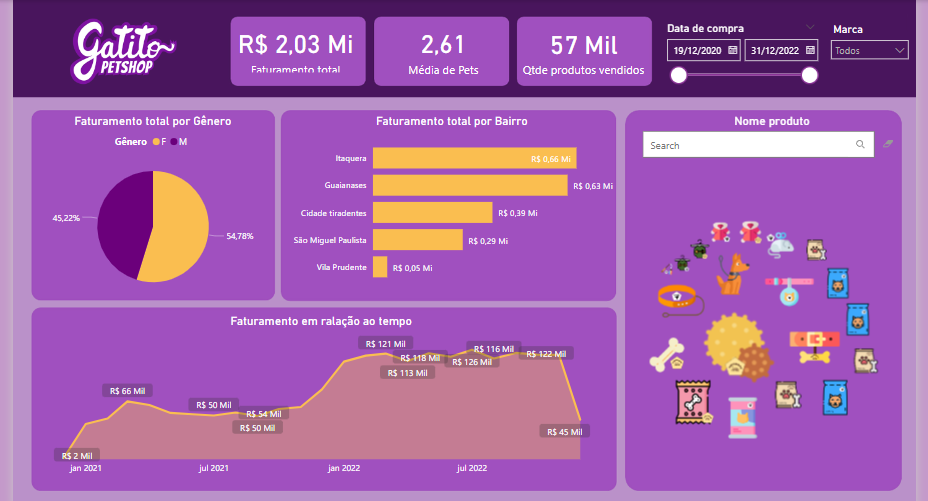

This screenshot's page, from the dashboard's own definition file:
{"tool":"powerbi","page":{"name":"Página 1","canvas":[1280,720],"ordinal":0},"visuals":[{"type":"card","fields":{"Values":["Vendas.Faturamento total"]},"box":[299.1,32.6,202.7,75.1],"z":0},{"type":"card","fields":{"Values":["Avg(Clientes.Pets)"]},"box":[511.7,25.5,197,89.3],"z":1000},{"type":"card","fields":{"Values":["Sum(Vendas.Quantidade)"]},"box":[703,11.3,211.2,117.6],"z":2000},{"type":"pieChart","fields":{"Category":["Clientes.Gênero"],"Y":["Vendas.Faturamento total"]},"box":[34.3,161.4,328.6,271.4],"z":3000},{"type":"clusteredBarChart","fields":{"Category":["Clientes.Bairro"],"Y":["Vendas.Faturamento total"]},"box":[384.3,161.4,475.7,252.9],"z":4000},{"type":"areaChart","title":"Faturamento em ralação ao tempo","fields":{"Category":["Vendas.Data de compra.Variation.Hierarquia de datas.Ano","Vendas.Data de compra.Variation.Hierarquia de datas.Trimestre","Vendas.Data de compra.Variation.Hierarquia de datas.Mês","Vendas.Data de compra.Variation.Hierarquia de datas.Dia"],"Y":["Vendas.Faturamento total"]},"box":[44.3,445.7,785.7,235.7],"z":5000},{"type":"ImageGrid_FC5183B9_926C_45E0_B5F7_0CE9EAF1DA9B","fields":{"ImageURL":["Produtos.Url img"]},"box":[875.7,241.4,377.1,452.9],"z":5001},{"type":"textFilter25A4896A83E0487089E2B90C9AE57C8A","fields":{"field":["Produtos.Nome produto"]},"box":[887.1,161.4,377.1,80],"z":5002},{"type":"slicer","fields":{"Values":["Produtos.Marca"]},"box":[1149.4,26.9,130.4,130.4],"z":5003},{"type":"slicer","fields":{"Values":["Vendas.Data de compra"]},"box":[914.2,25.5,235.3,164.4],"z":5004}]}

Visuals, with their boxes on the page's 1280x720 design canvas (x1, y1, x2, y2). These are canvas units, not pixel positions in the 928x501 screenshot, which may show the page scaled, cropped or inside an application window:
card - Vendas.Faturamento total: box(299, 33, 502, 108)
card - Avg(Clientes.Pets): box(512, 26, 709, 115)
card - Sum(Vendas.Quantidade): box(703, 11, 914, 129)
pieChart - Clientes.Gênero x Vendas.Faturamento total: box(34, 161, 363, 433)
clusteredBarChart - Clientes.Bairro x Vendas.Faturamento total: box(384, 161, 860, 414)
"Faturamento em ralação ao tempo" areaChart: box(44, 446, 830, 681)
ImageGrid_FC5183B9_926C_45E0_B5F7_0CE9EAF1DA9B - Produtos.Url img: box(876, 241, 1253, 694)
textFilter25A4896A83E0487089E2B90C9AE57C8A - Produtos.Nome produto: box(887, 161, 1264, 241)
slicer - Produtos.Marca: box(1149, 27, 1280, 157)
slicer - Vendas.Data de compra: box(914, 26, 1150, 190)
